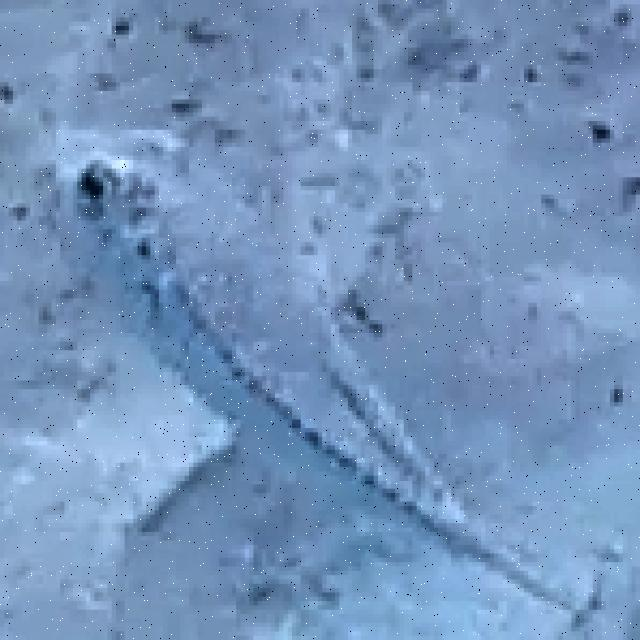Balik: (64, 147, 567, 601)
